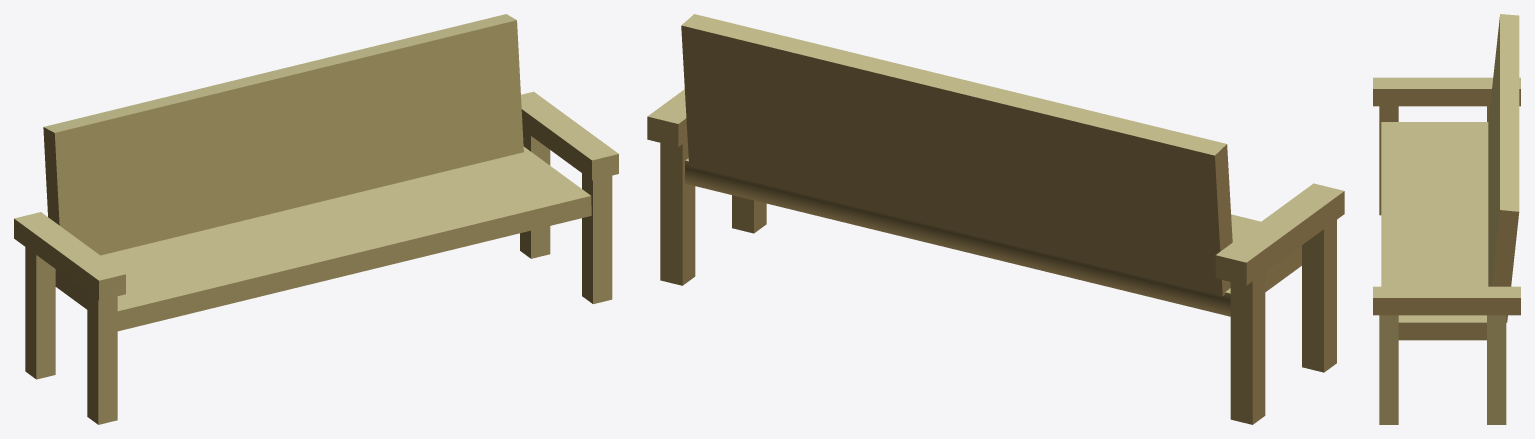
File: bench_001.glb
3 renders of one model, left to right at view 1: azimuth 30°, elevation 25°; view 2: azimuth 150°, elevation 25°; view 3: azimuth 270°, elevation 25°, orthographic. The views are drawn at different scales.
Parts seen in each view (by area): view 1: bench_001; view 2: bench_001; view 3: bench_001.
Part boxes in pixels (bbox=[...]): bench_001: bbox=[14, 14, 618, 424]; bench_001: bbox=[647, 14, 1344, 424]; bench_001: bbox=[1373, 14, 1520, 424].
Size of the model in its own units: 2.1 by 0.9073 by 0.5956.
1 material, 1 textured.
